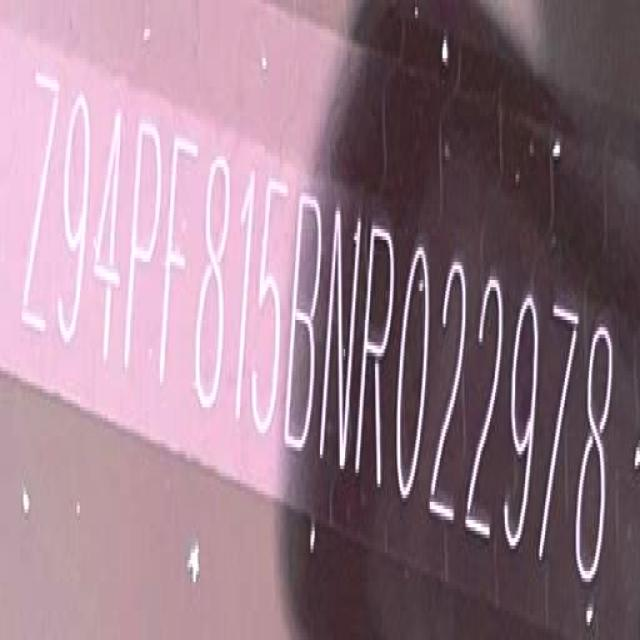0: (388, 244, 436, 514)
1: (226, 168, 257, 426)
2: (425, 250, 470, 531), (461, 270, 506, 550)
4: (84, 98, 131, 370)
5: (249, 168, 287, 431)
7: (535, 294, 578, 579)
8: (572, 314, 621, 593), (189, 143, 234, 412)
9: (499, 282, 544, 559), (48, 85, 93, 356)
B: (283, 184, 329, 454)
F: (152, 128, 202, 392)
N: (317, 202, 364, 479)
P: (118, 116, 168, 380)
R: (355, 213, 400, 492)
Z: (16, 64, 62, 337)
